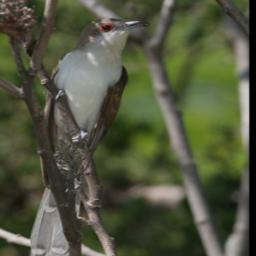Cuckoo: (25, 13, 150, 256)
